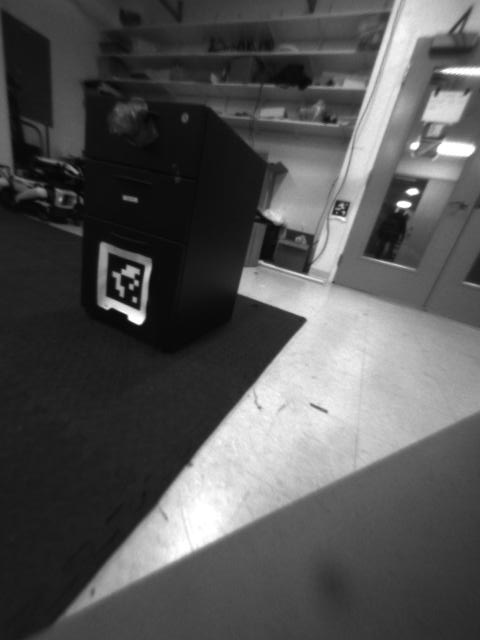door_handle: (444, 194, 471, 218)
drawer: (100, 96, 154, 153)
